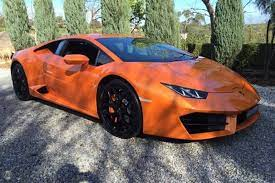Lamborghini: (10, 32, 259, 137)
